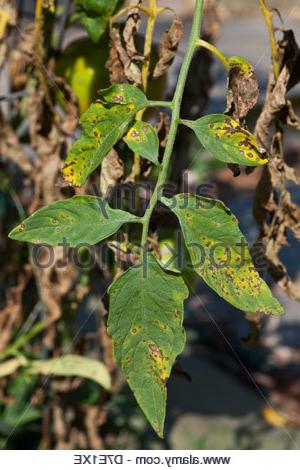Tomato Septoria leaf spot: (98, 245, 192, 440), (174, 186, 287, 323), (52, 75, 154, 184), (0, 186, 132, 260), (177, 109, 273, 172)
